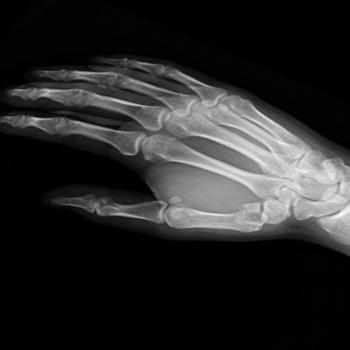Fracture: (234, 200, 265, 221)
